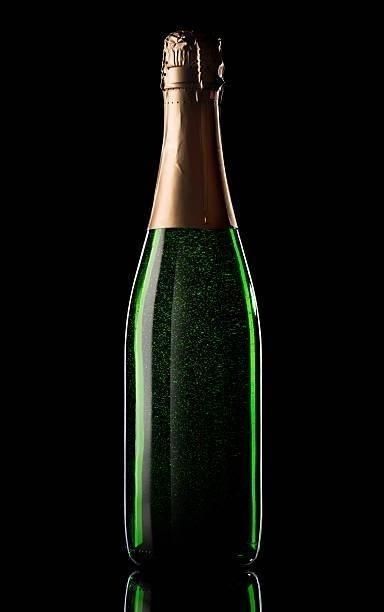bottle-glass: (117, 25, 269, 591)
